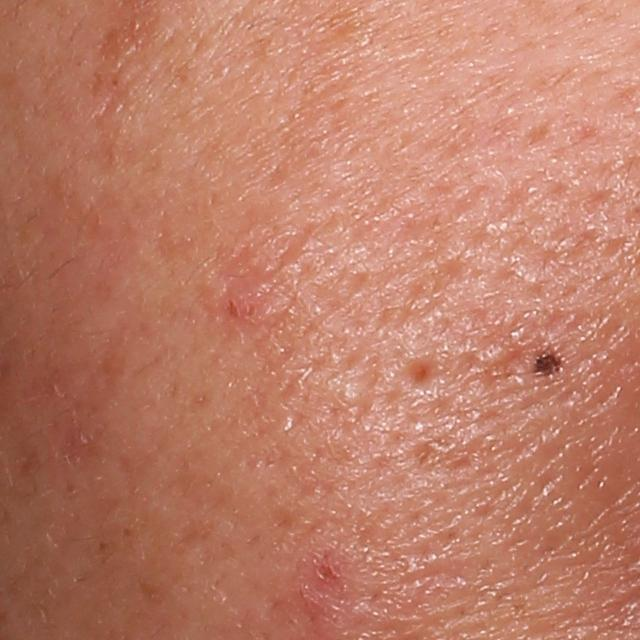atrophic_scar: (402, 351, 443, 396)
nevus: (533, 350, 563, 378)
papule: (217, 279, 265, 323), (306, 550, 347, 596)
